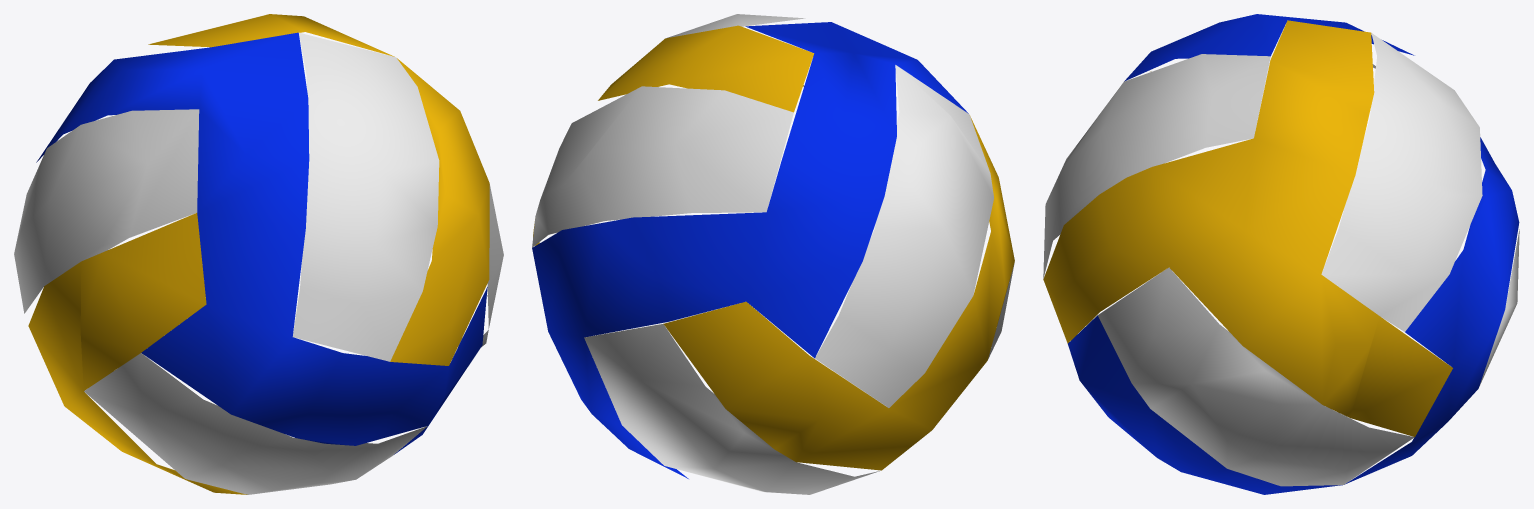
Rendered from Volleyball.glb.
The picture shows the model from 3 angles, left to right: view 1: azimuth 30°, elevation 25°; view 2: azimuth 150°, elevation 25°; view 3: azimuth 270°, elevation 25°; orthographic projection.
Visible parts, largest first — view 1: 3d66-Editable_Poly-22218621-001; view 2: 3d66-Editable_Poly-22218621-001; view 3: 3d66-Editable_Poly-22218621-001.
Boxes of the visible parts, <box> form: 3d66-Editable_Poly-22218621-001: <box>14,14,503,494</box>; 3d66-Editable_Poly-22218621-001: <box>532,14,1014,494</box>; 3d66-Editable_Poly-22218621-001: <box>1043,14,1519,494</box>.
Bounding box in the file's own units: 0.7679 × 0.7649 × 0.7696.
